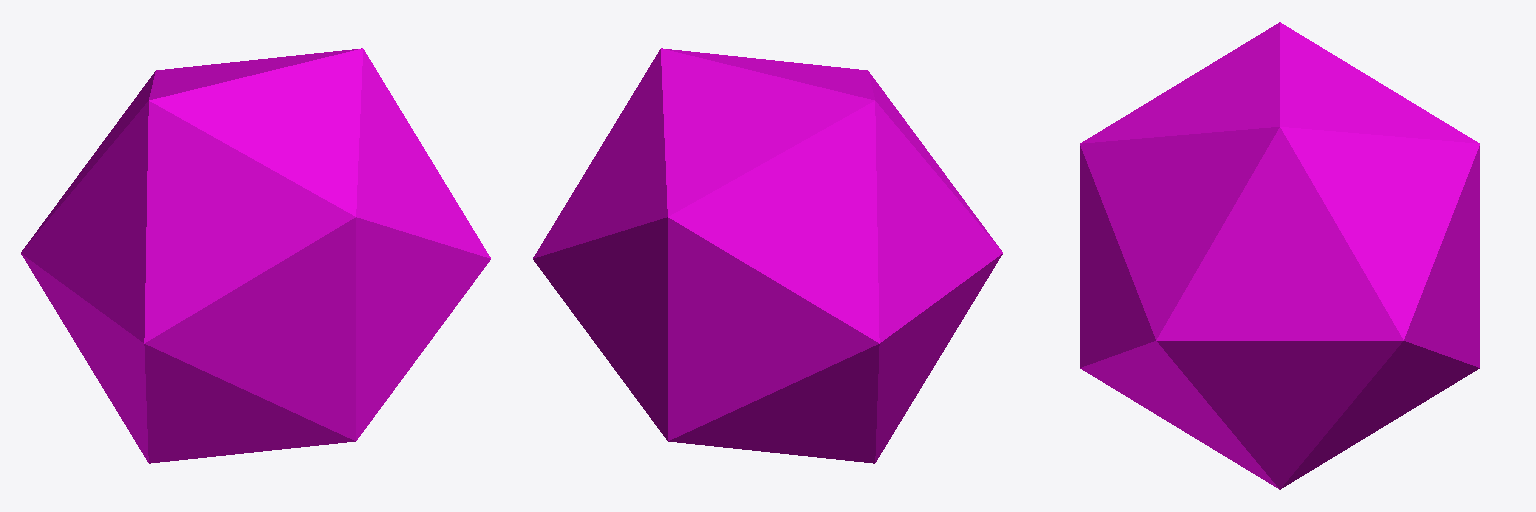
Rendered from starparticle.obj.
The picture shows the model from 3 angles: view 1: azimuth 30°, elevation 25°; view 2: azimuth 150°, elevation 25°; view 3: azimuth 270°, elevation 25°; orthographic projection.
Visible parts, largest first — view 1: Platonic; view 2: Platonic; view 3: Platonic.
Boxes of the visible parts, <box> form: Platonic: <box>21,48,490,463</box>; Platonic: <box>533,48,1002,463</box>; Platonic: <box>1080,22,1479,489</box>.
Bounding box in the file's own units: 69.9 × 69.9 × 69.9.